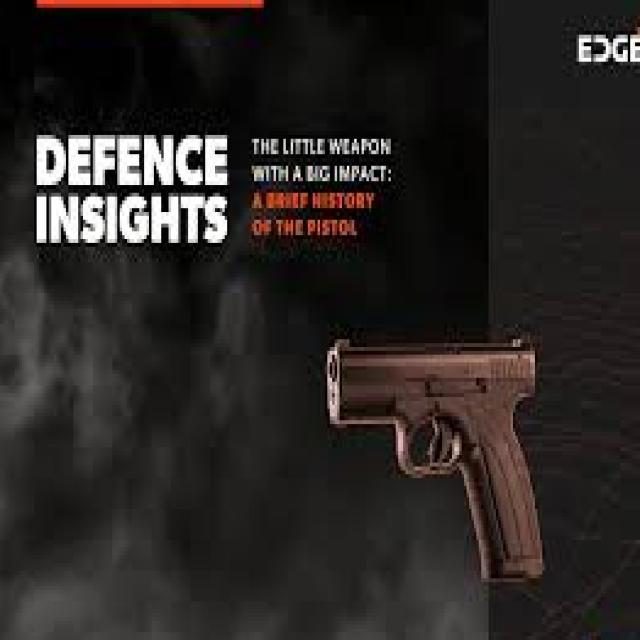Gun: (326, 319, 558, 588)
